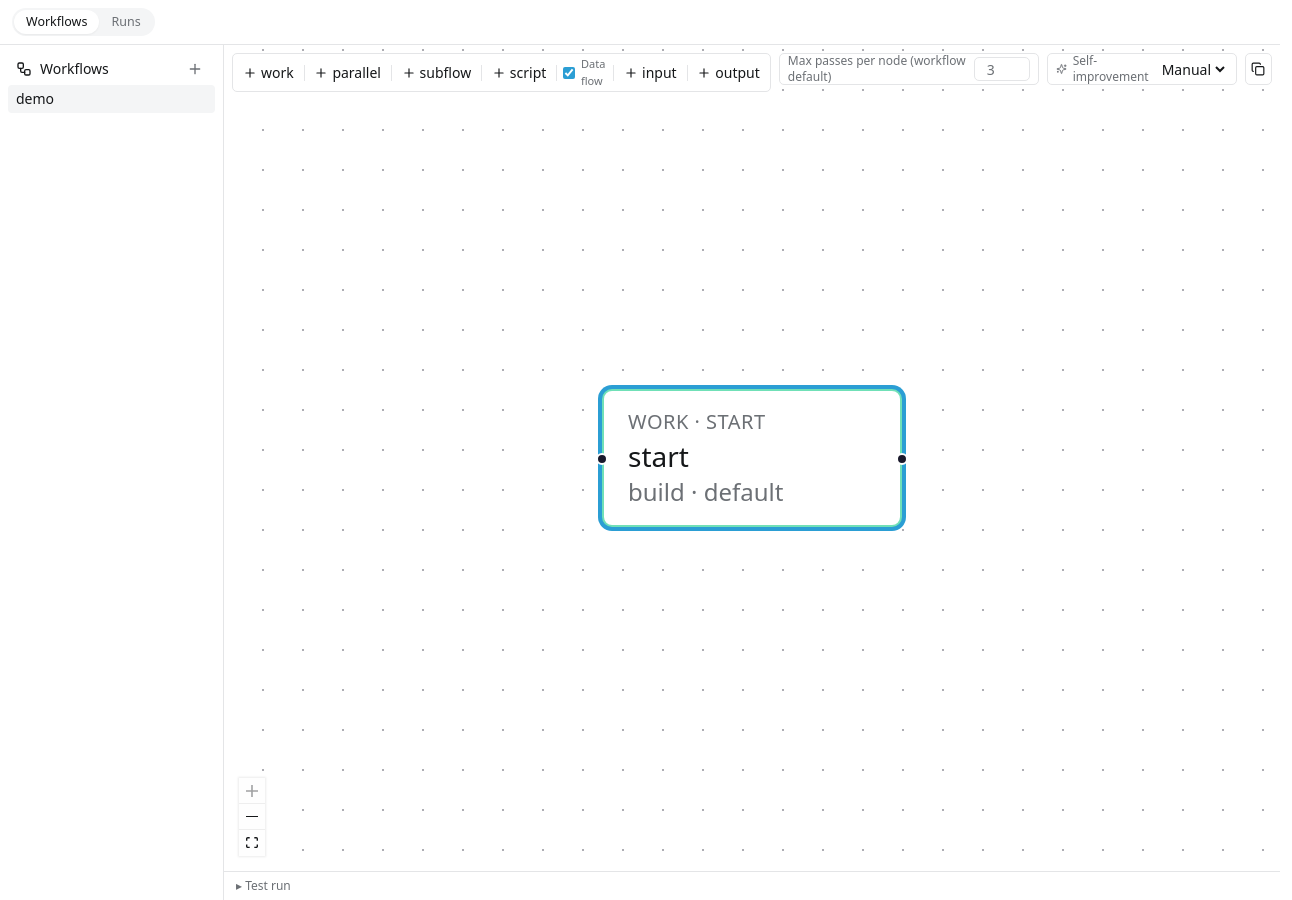
it: WorkflowsView run detail › shows an aborted banner with the failure reason
Click the button "▸ Test run".
click(268, 886)  # box [224,872,1280,899]
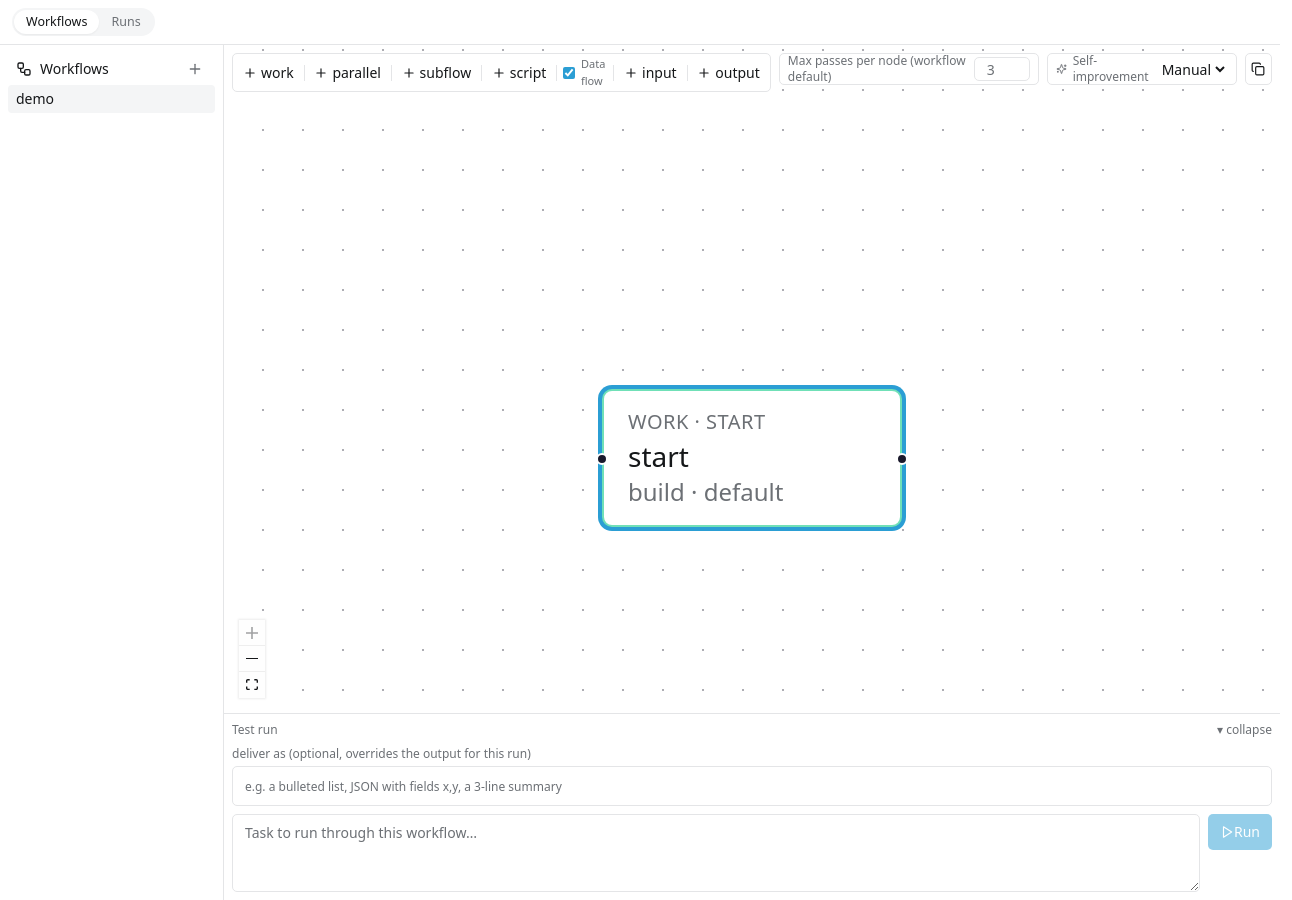
Type "do the thing" into the text box with placeholder "Task to run through this workflow…".
click(716, 853); type("do the thing")  # box [232,814,1200,892]
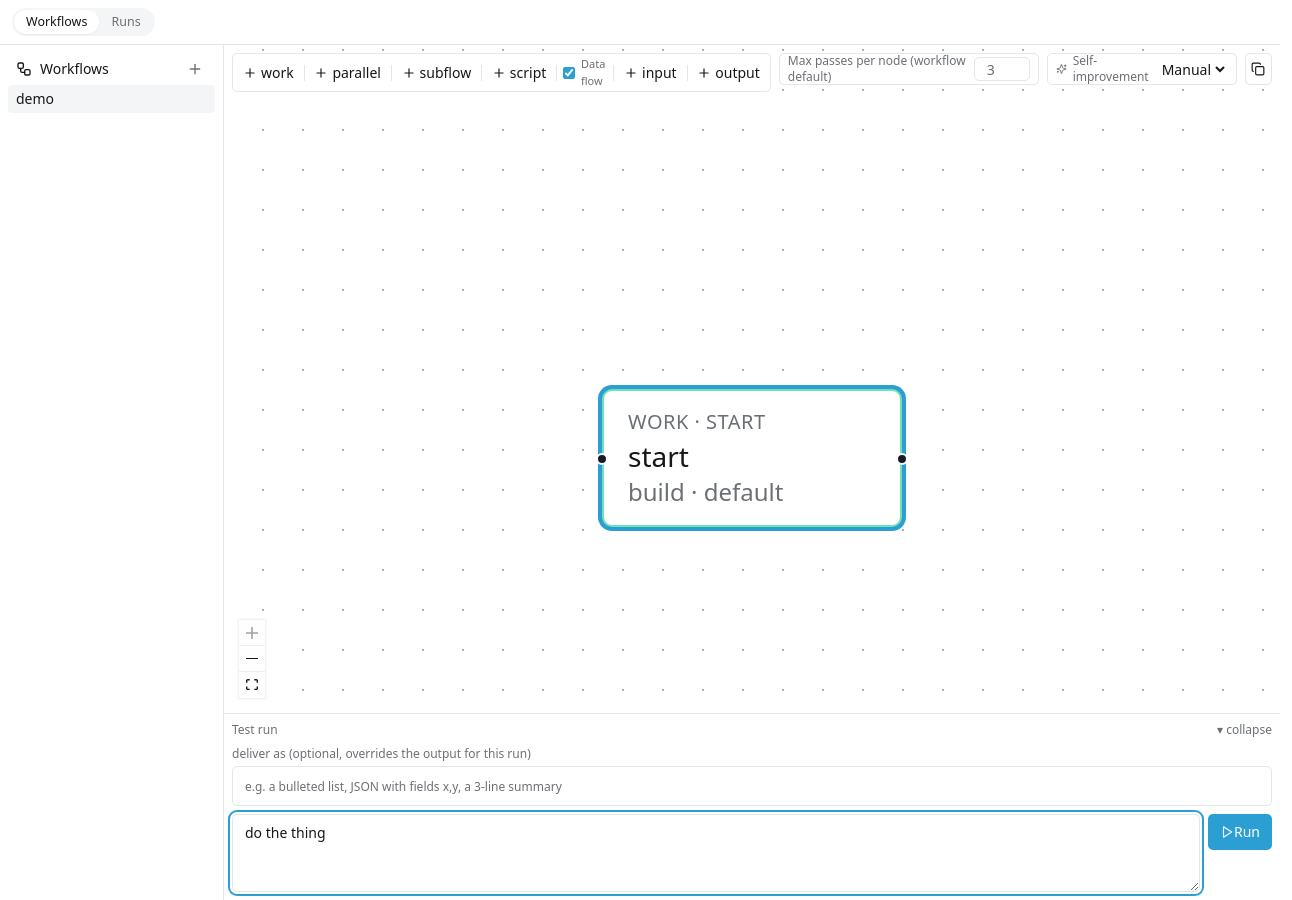
Click the button "Run".
click(1240, 832)  # box [1208,814,1272,850]
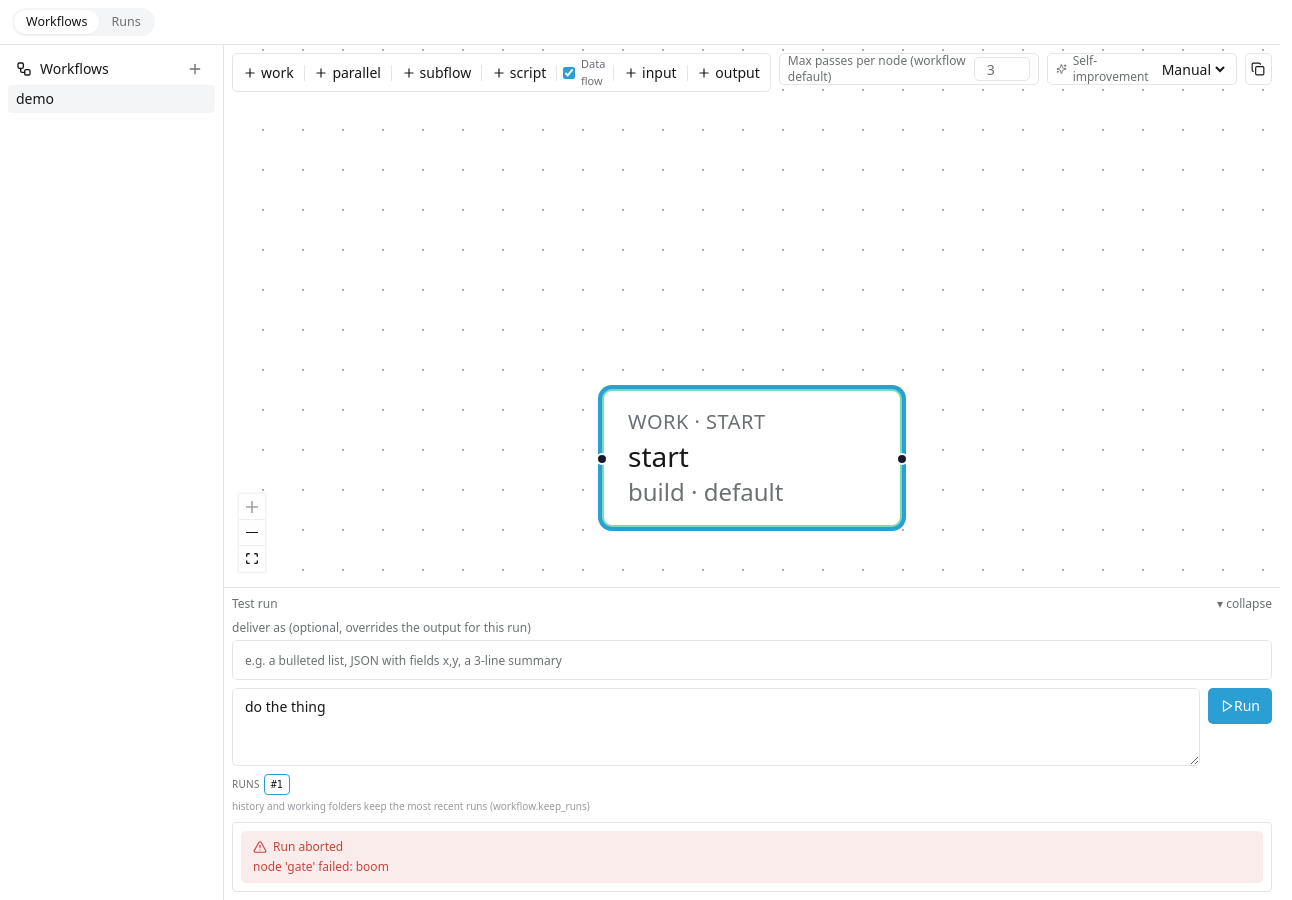
Now the text "Run aborted" is shown, box [273,839,343,855]
Now the text "node 'gate' failed: boom" is shown, box [253,858,389,875]
